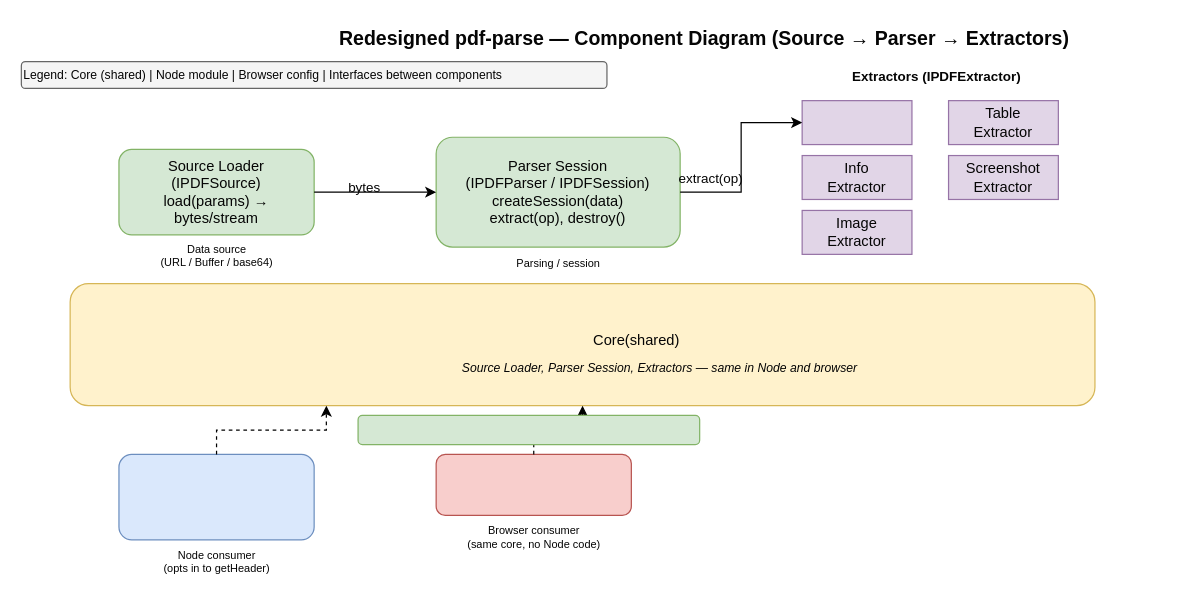
Some shapes in this 1190 by 595 pixel diagram are drawn without their labels. Each missing label, with the centre of its shape:
Browser config (worker, loader): (533,484)
Node and browser use same core; only platform layer differs: (528,429)
Node module (e.g. getHeader) INodePDFUtils: (216,496)
Text Extractor: (856,122)
